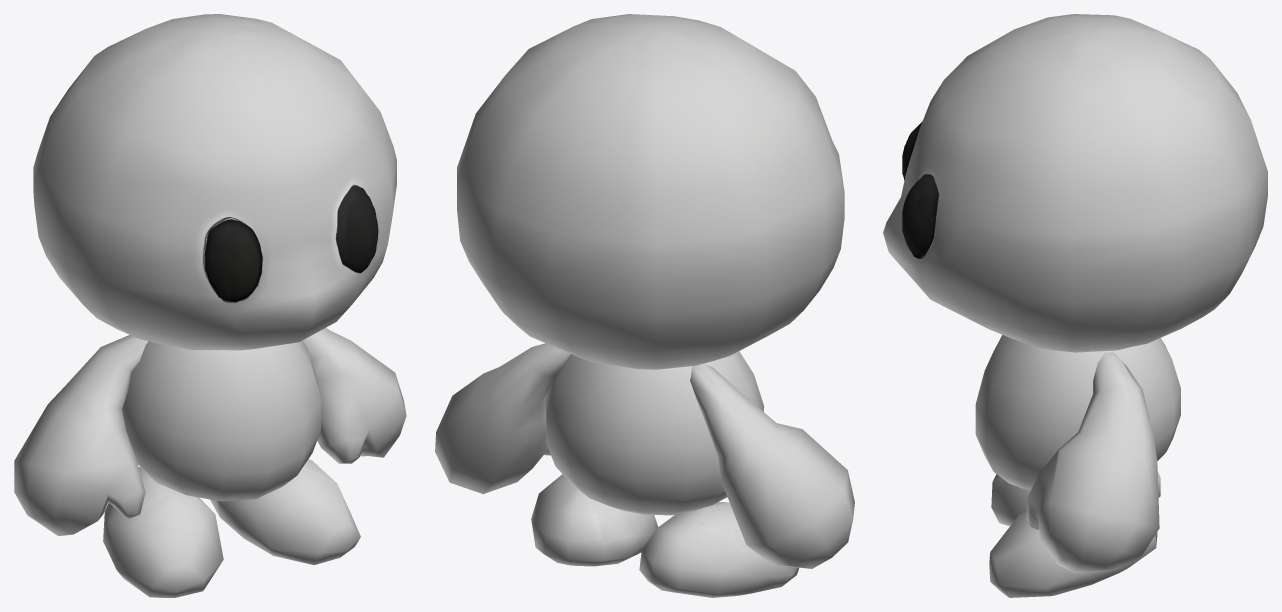
The picture shows the model from 3 angles, left to right: view 1: azimuth 30°, elevation 25°; view 2: azimuth 150°, elevation 25°; view 3: azimuth 270°, elevation 25°; orthographic projection. The views are drawn at different scales.
Visible parts, largest first — view 1: tripo_node_9de5599c-dddb-4701-b7f0-082bced63479; view 2: tripo_node_9de5599c-dddb-4701-b7f0-082bced63479; view 3: tripo_node_9de5599c-dddb-4701-b7f0-082bced63479.
Part boxes in pixels (left/top/right/bottom): tripo_node_9de5599c-dddb-4701-b7f0-082bced63479: left=14, top=14, right=406, bottom=597; tripo_node_9de5599c-dddb-4701-b7f0-082bced63479: left=435, top=14, right=854, bottom=597; tripo_node_9de5599c-dddb-4701-b7f0-082bced63479: left=883, top=14, right=1267, bottom=597.
Size of the model in its own units: 0.7598 by 0.998 by 0.666.
1 material, 1 textured.
